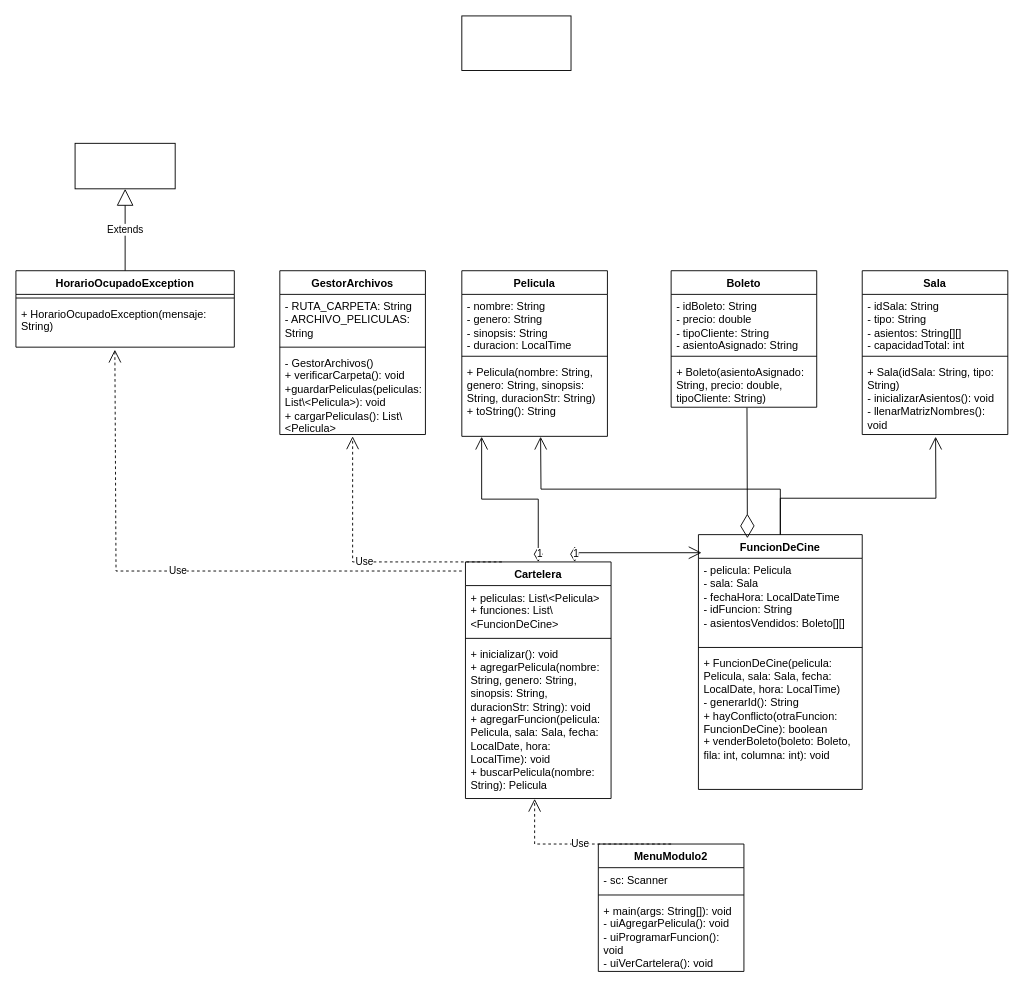
The diagram is 1024 pixels wide and 990 high, and some of its shapes have lost their labels. The shapes that lost their labels are listed below. From the top down, each one's centre as x and y in pixels, then its label:
At [516,43]: "Modulo 2".
At [124,165]: "Exception".
